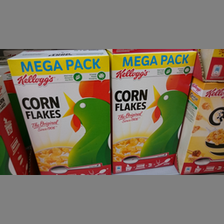cereal: (7, 50, 112, 175), (111, 51, 196, 171)
